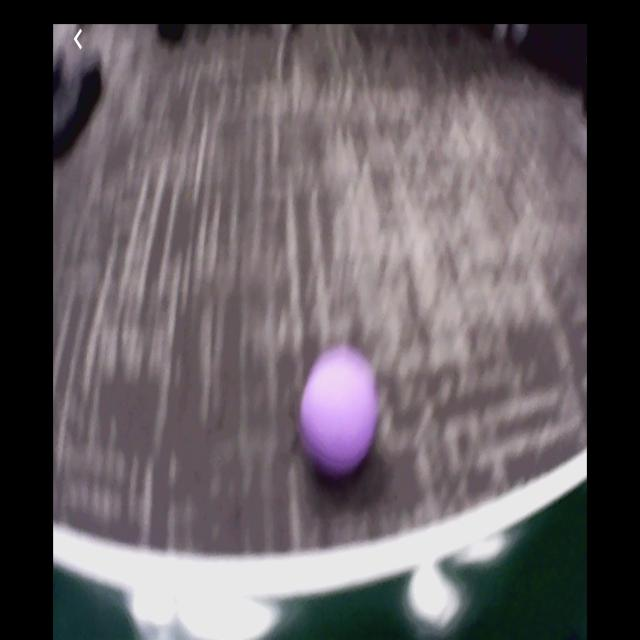ball: (304, 350, 378, 470)
